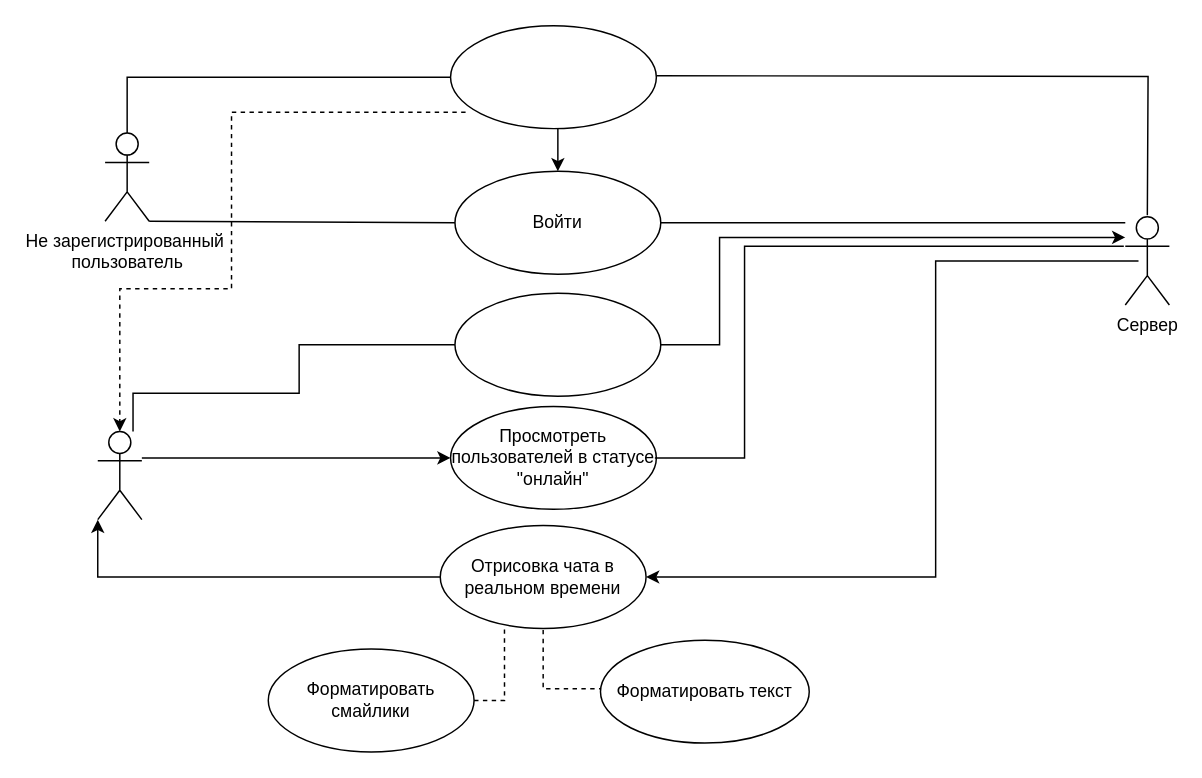
Some shapes in this 1202 by 778 pixel diagram are drawn without their labels. The shapes that lost their labels are listed below. From the top down, each one's centre as x and y in pixels, then its label:
At (x=552, y=76): "Зарегистрироваться".
At (x=557, y=344): "Отправить сообщение в чат".
At (x=119, y=475): "Пользователь".
